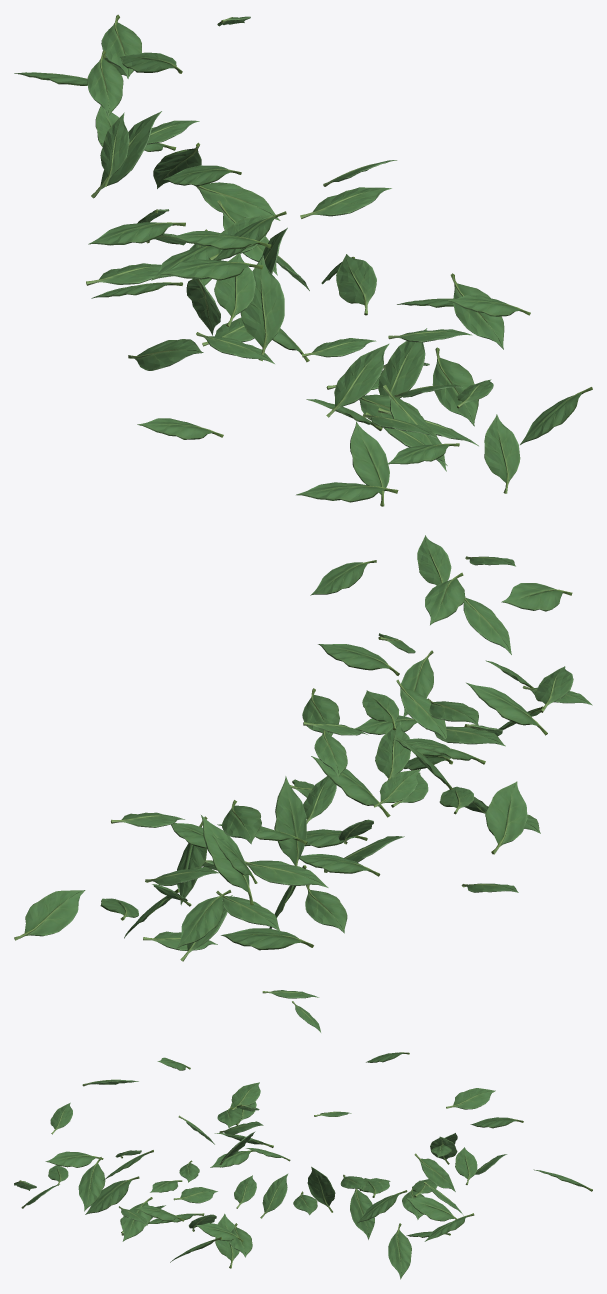
Rendered from holy_canopy14_complete.glb.
The picture shows the model from 3 angles, top to bottom: view 1: azimuth 30°, elevation 25°; view 2: azimuth 150°, elevation 25°; view 3: azimuth 270°, elevation 25°; orthographic projection. The views are drawn at different scales.
Visible parts, largest first — view 1: holy_canopy14; view 2: holy_canopy14; view 3: holy_canopy14.
Boxes of the visible parts, x1=… form: holy_canopy14: x1=14, y1=14, x2=592, y2=506; holy_canopy14: x1=14, y1=535, x2=592, y2=961; holy_canopy14: x1=14, y1=990, x2=592, y2=1279.
Size of the model in its own units: 9.05 by 11.58 by 25.62.
Materials: 1 (1 with a texture image).
